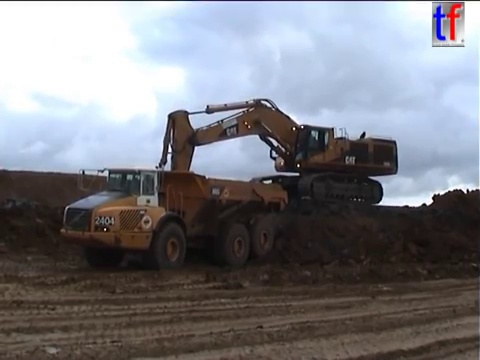excavator: (143, 95, 402, 231)
truck: (56, 159, 292, 274)
